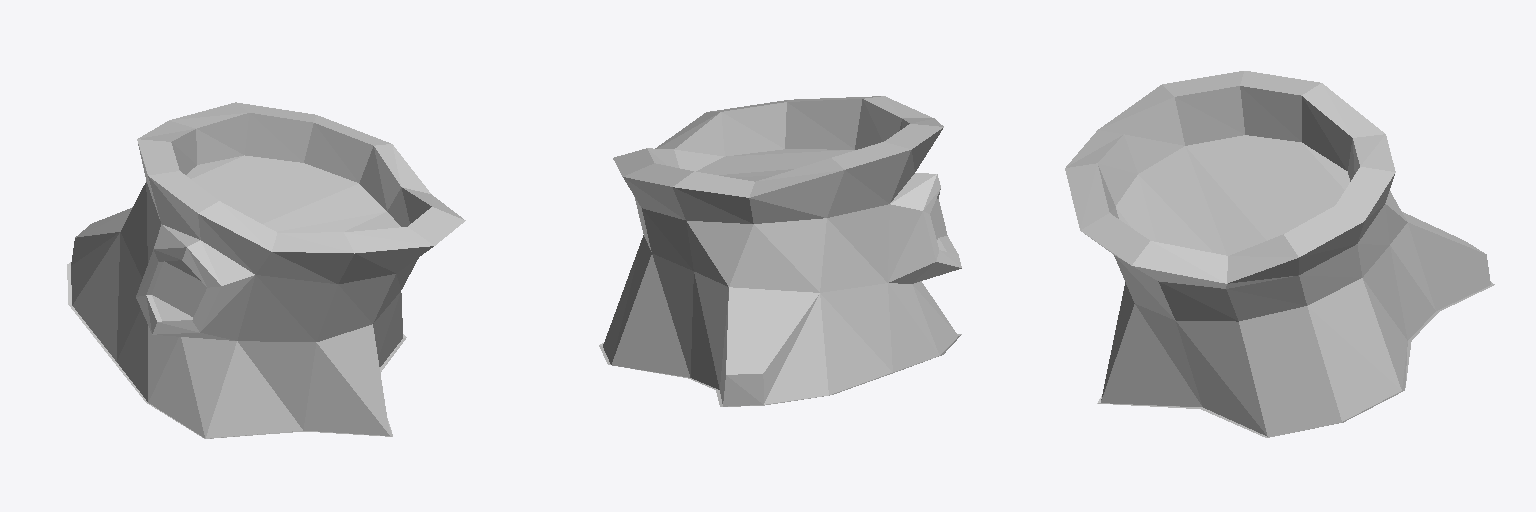
The model's file is tronco.obj.
3 renders of one model, left to right at view 1: azimuth 30°, elevation 25°; view 2: azimuth 150°, elevation 25°; view 3: azimuth 270°, elevation 25°, orthographic.
Parts seen in each view (by area): view 1: Circle.009_Wood_0; view 2: Circle.009_Wood_0; view 3: Circle.009_Wood_0.
Boxes of the visible parts, x1=… form: Circle.009_Wood_0: x1=67, y1=102, x2=465, y2=438; Circle.009_Wood_0: x1=599, y1=96, x2=961, y2=406; Circle.009_Wood_0: x1=1065, y1=71, x2=1494, y2=437.
Bounding box in the file's own units: 0.6936 × 0.5578 × 0.8675.